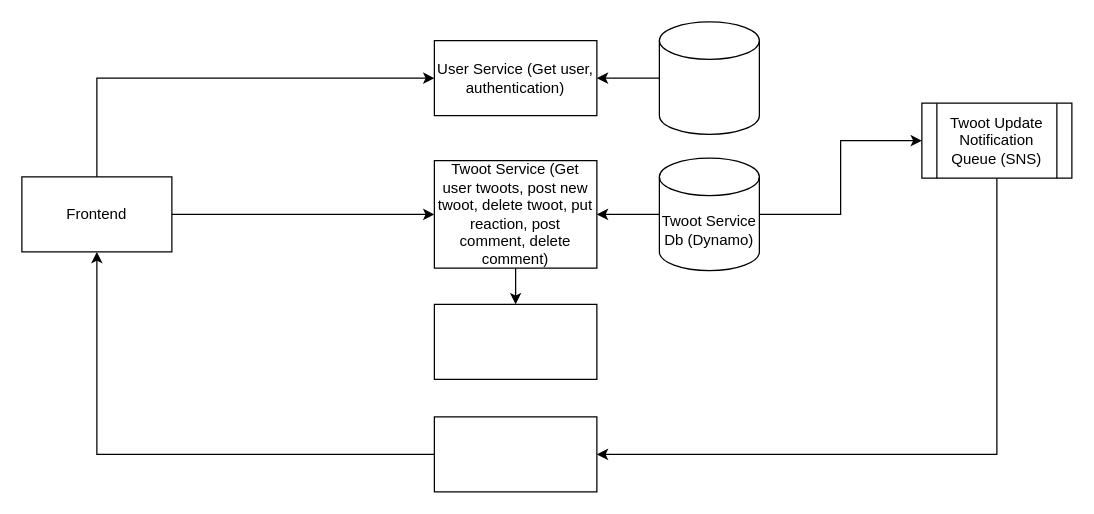
This 1094x514 diagram has some shape labels left out. Each missing label, with the centre of its shape:
"Twoot SignalR Service (Realtime Notifications)" belongs at point 515,454.
"Twoot URL Generation Service" belongs at point 515,341.
"User Service Db (SQL)" belongs at point 708,77.
